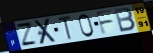0: (78, 13, 96, 38)
B: (114, 7, 137, 34)
F: (95, 9, 115, 36)
T: (57, 15, 73, 41)
X: (33, 17, 58, 46)
Z: (15, 22, 39, 47)
